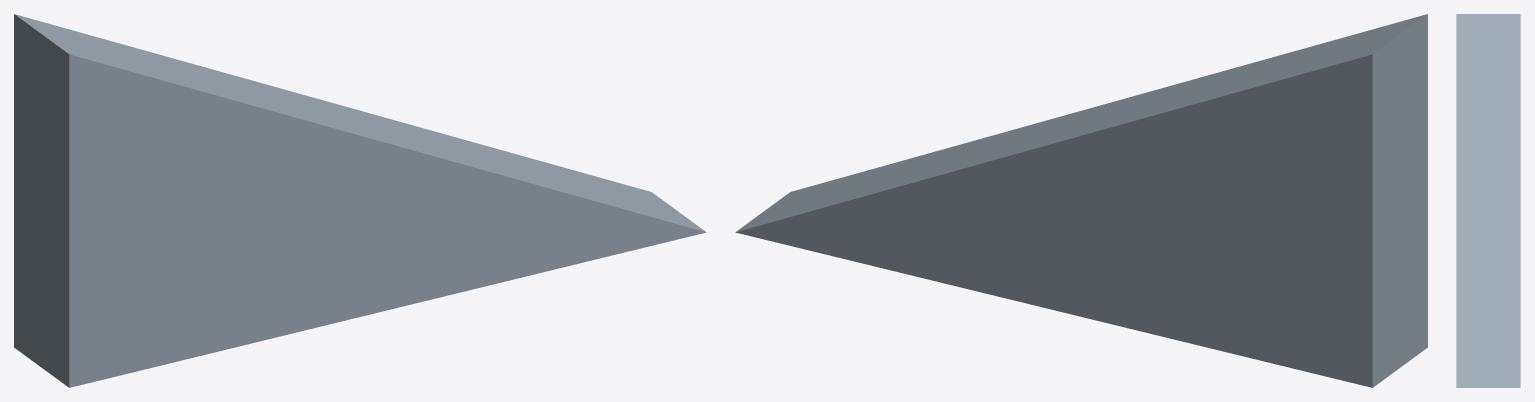
File: SM_Wall_2M_low_Ramp_2v.fbx
The picture shows the model from 3 angles, left to right: view 1: azimuth 30°, elevation 25°; view 2: azimuth 150°, elevation 25°; view 3: azimuth 270°, elevation 25°; orthographic projection. The views are drawn at different scales.
Parts seen in each view (by area): view 1: SM_Wall_2M_low_Ramp_2v; view 2: SM_Wall_2M_low_Ramp_2v; view 3: SM_Wall_2M_low_Ramp_2v.
Part boxes in pixels (x1,y1,x2,y2): SM_Wall_2M_low_Ramp_2v: (14, 14, 706, 387); SM_Wall_2M_low_Ramp_2v: (735, 14, 1427, 387); SM_Wall_2M_low_Ramp_2v: (1456, 14, 1520, 387).
Size of the model in its own units: 200 by 100 by 30.
